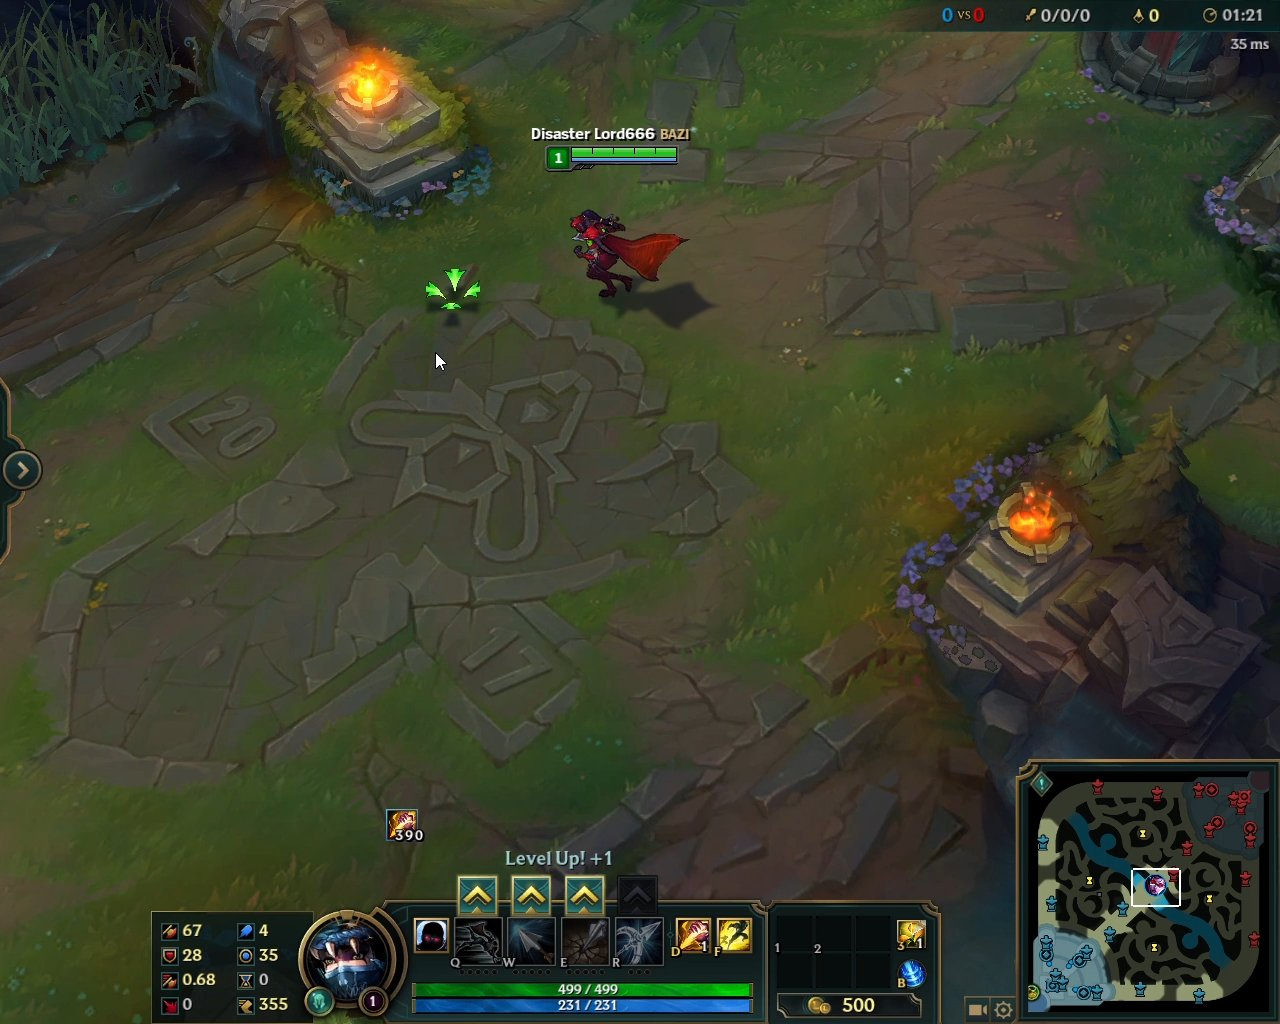Vayne: (563, 205, 693, 302)
